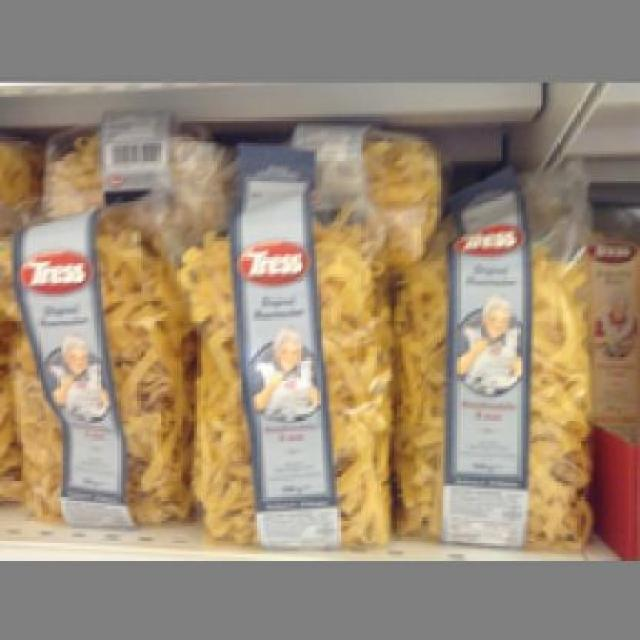Pasta: (166, 166, 392, 548), (380, 180, 589, 546), (0, 203, 189, 526)
